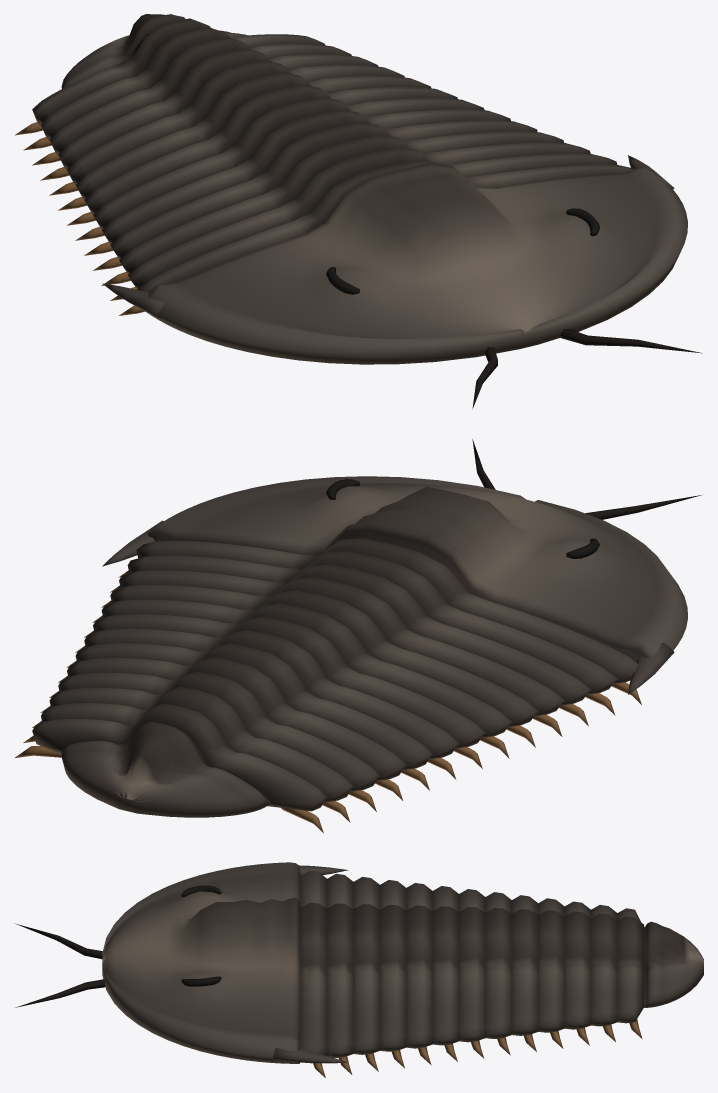
Rendered from Elrathia.fbx.
3 renders of one model, top to bottom at view 1: azimuth 30°, elevation 25°; view 2: azimuth 150°, elevation 25°; view 3: azimuth 270°, elevation 25°, orthographic. The views are drawn at different scales.
Parts seen in each view (by area): view 1: Elrathia; view 2: Elrathia; view 3: Elrathia.
Boxes of the visible parts, left/top/right/bottom form: Elrathia: left=15, top=14, right=702, bottom=409; Elrathia: left=15, top=439, right=701, bottom=833; Elrathia: left=15, top=862, right=703, bottom=1077.
Bounding box in the file's own units: 1.14 × 0.2033 × 1.72.
